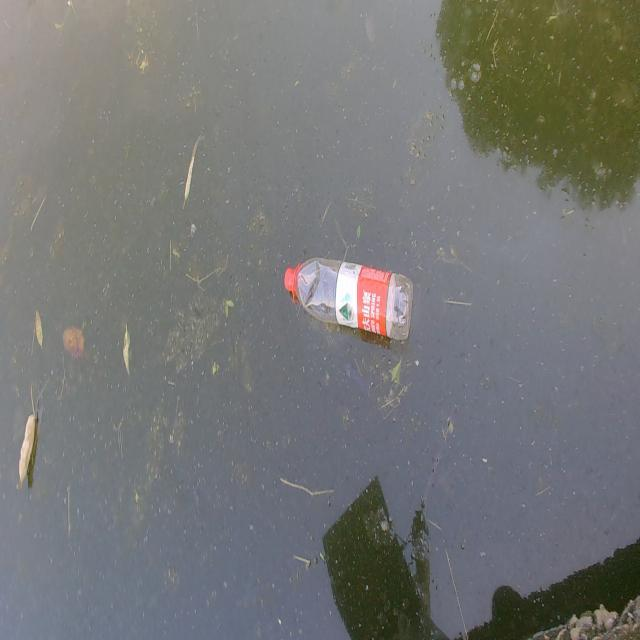garbage: (283, 255, 413, 341)
